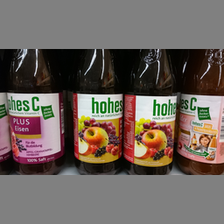juice: (6, 50, 66, 174), (68, 50, 124, 175), (124, 50, 179, 176), (177, 50, 224, 172)
